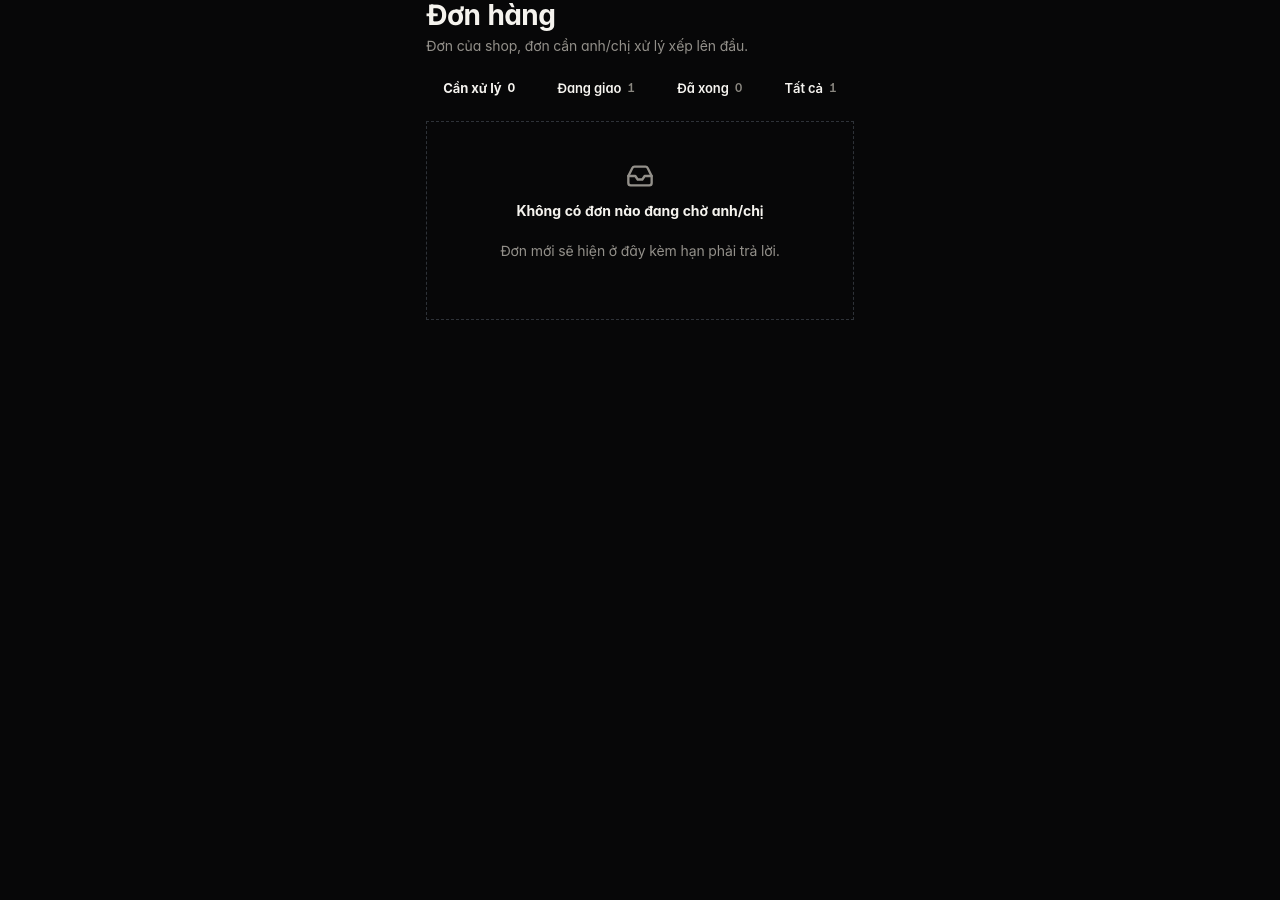
Test case: the two renderings of one list › shows no deadline on an order that is not waiting on the seller
Click the tab "Đang giao 1".
click(596, 88)  # box [540, 78, 652, 99]
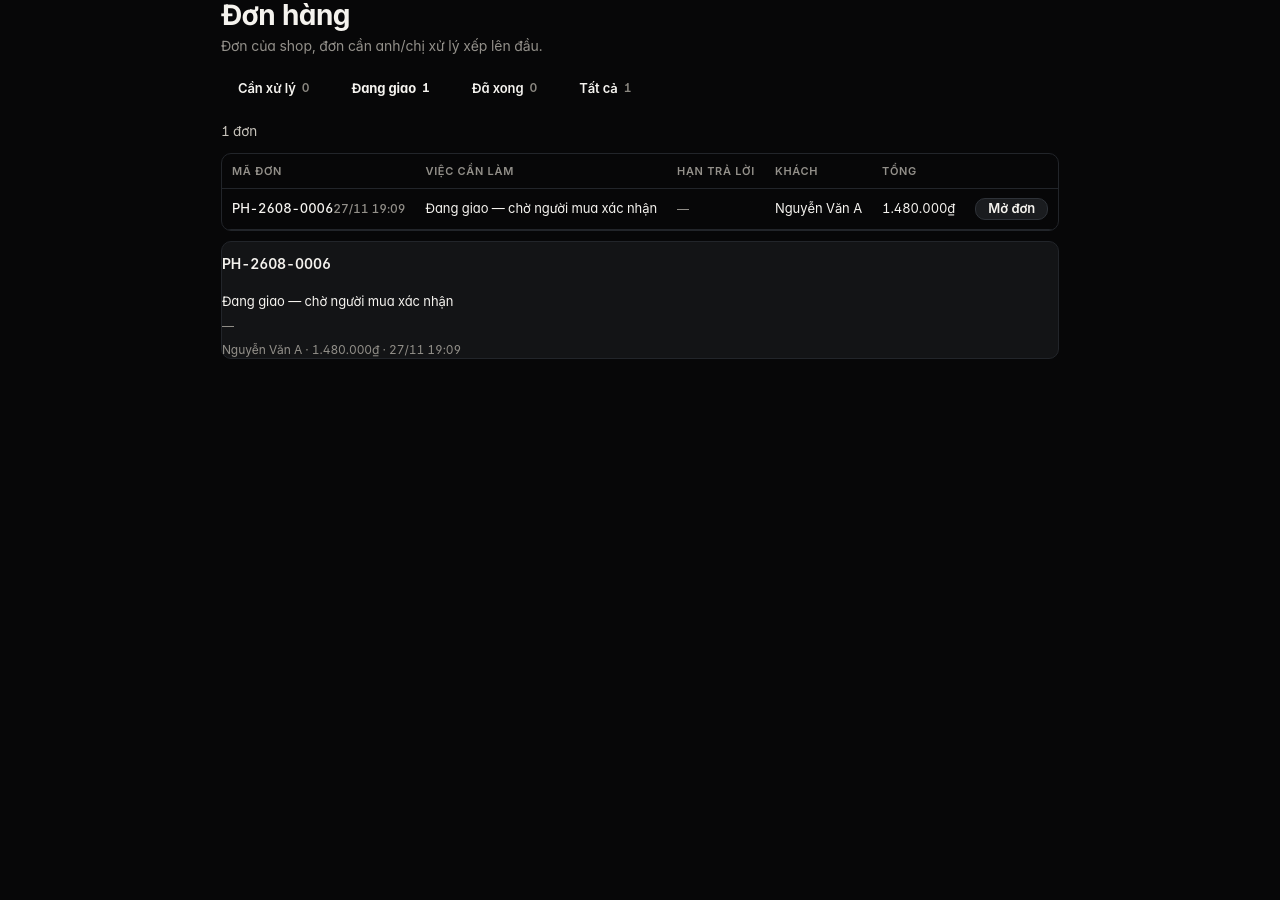
Check: the text "Đang giao — chờ người mua xác nhận" is shown, box [416, 190, 667, 230]
